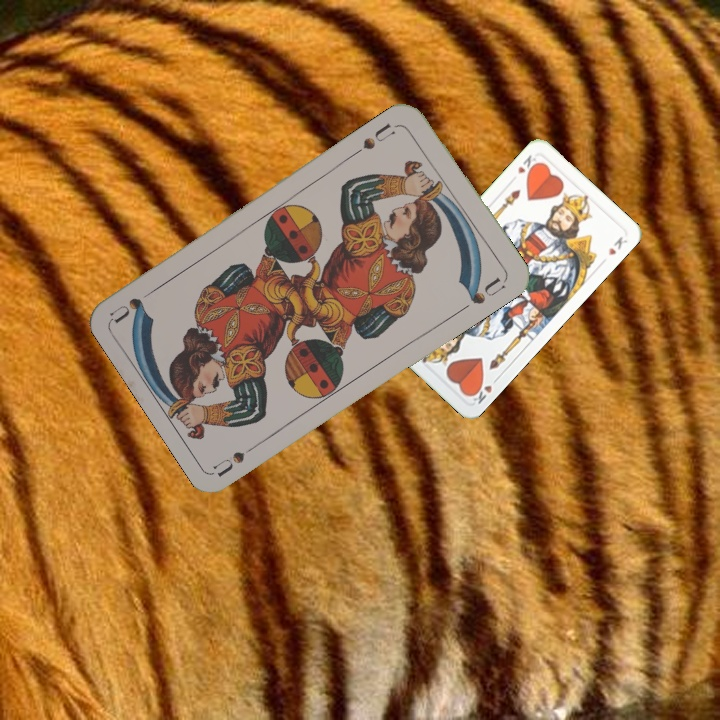HK: (466, 373, 502, 407), (513, 151, 541, 179)
SU: (210, 437, 265, 478), (358, 118, 404, 153)
